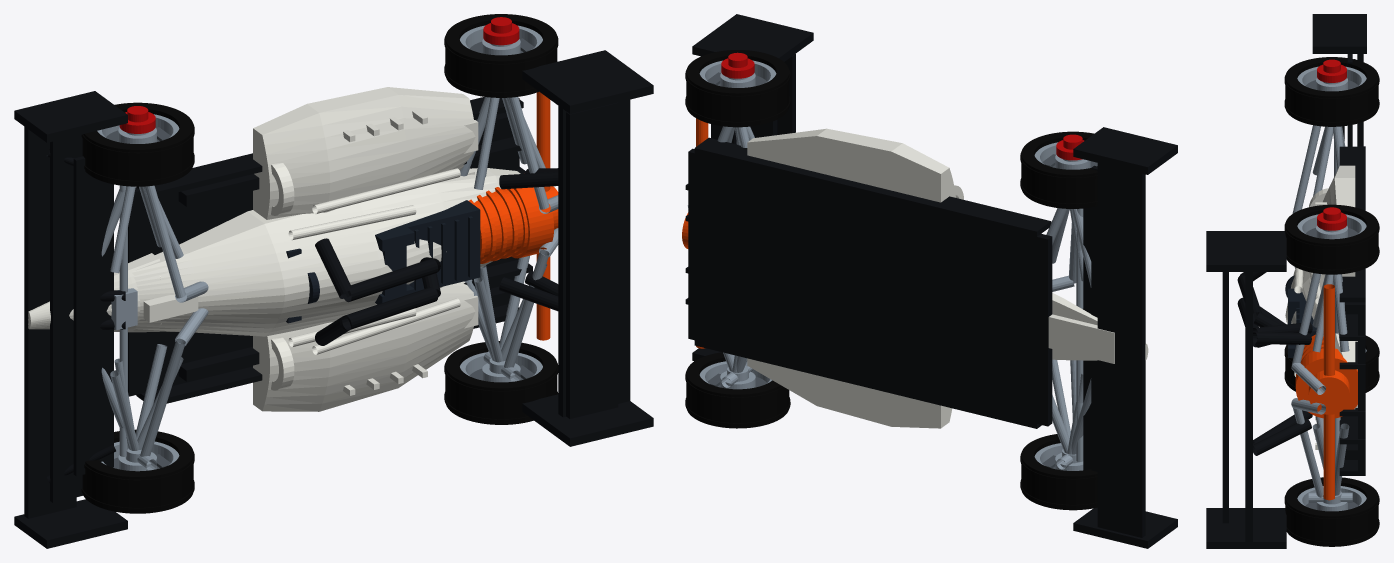
Rendered from FORMULA_EV_DETAILED_VIEWER.obj.
3 renders of one model, left to right at view 1: azimuth 30°, elevation 25°; view 2: azimuth 150°, elevation 25°; view 3: azimuth 270°, elevation 25°, orthographic. The views are drawn at different scales.
Parts seen in each view (by area): view 1: Sidepods, Front_wing, Rear_wing, Carbon_monocoque, Ground_effect_floor, Front_suspension, Rear_suspension, Rear_motor, Front_right_slick_tire, Rear_right_slick_tire, Rear_left_slick_tire, Front_left_slick_tire (+10 smaller); view 2: Ground_effect_floor, Front_wing, Sidepods, Rear_right_slick_tire, Front_suspension, Rear_wing, Rear_left_slick_tire, Front_right_slick_tire, Front_left_slick_tire, Carbon_monocoque, Rear_suspension, Nose_cone (+4 smaller); view 3: Rear_wing, Rear_suspension, Ground_effect_floor, Rear_motor, Front_right_slick_tire, Rear_right_slick_tire, Rear_left_slick_tire, Front_wing, Front_suspension, Sidepods, Front_left_slick_tire, Carbon_monocoque (+8 smaller).
Part boxes in pixels (x1=…): Sidepods: x1=253, y1=87, x2=478, y2=411; Front_wing: x1=14, y1=91, x2=127, y2=548; Rear_wing: x1=499, y1=50, x2=653, y2=446; Carbon_monocoque: x1=131, y1=168, x2=520, y2=347; Ground_effect_floor: x1=128, y1=97, x2=532, y2=403; Front_suspension: x1=101, y1=132, x2=208, y2=470; Rear_suspension: x1=460, y1=43, x2=558, y2=381; Rear_motor: x1=469, y1=91, x2=558, y2=340; Front_right_slick_tire: x1=81, y1=102, x2=194, y2=186; Rear_right_slick_tire: x1=444, y1=14, x2=558, y2=97; Rear_left_slick_tire: x1=444, y1=341, x2=558, y2=424; Front_left_slick_tire: x1=81, y1=429, x2=194, y2=513; Ground_effect_floor: x1=685, y1=137, x2=1052, y2=428; Front_wing: x1=1073, y1=127, x2=1177, y2=548; Sidepods: x1=747, y1=128, x2=963, y2=428; Rear_right_slick_tire: x1=685, y1=50, x2=790, y2=127; Front_suspension: x1=1046, y1=159, x2=1091, y2=469; Rear_wing: x1=692, y1=14, x2=813, y2=361; Rear_left_slick_tire: x1=685, y1=352, x2=790, y2=428; Front_right_slick_tire: x1=1020, y1=131, x2=1097, y2=208; Front_left_slick_tire: x1=1020, y1=434, x2=1097, y2=510; Carbon_monocoque: x1=1048, y1=314, x2=1114, y2=363; Rear_suspension: x1=687, y1=77, x2=754, y2=387; Nose_cone: x1=1052, y1=293, x2=1148, y2=360; Rear_wing: x1=1206, y1=231, x2=1312, y2=548; Rear_suspension: x1=1291, y1=229, x2=1352, y2=504; Ground_effect_floor: x1=1339, y1=146, x2=1365, y2=475; Rear_motor: x1=1295, y1=284, x2=1357, y2=500; Front_right_slick_tire: x1=1284, y1=57, x2=1379, y2=126; Rear_right_slick_tire: x1=1284, y1=204, x2=1379, y2=274; Rear_left_slick_tire: x1=1284, y1=477, x2=1379, y2=546; Front_wing: x1=1312, y1=14, x2=1366, y2=146; Front_suspension: x1=1292, y1=82, x2=1345, y2=268; Sidepods: x1=1309, y1=165, x2=1355, y2=449; Front_left_slick_tire: x1=1284, y1=335, x2=1379, y2=392; Carbon_monocoque: x1=1285, y1=267, x2=1357, y2=409.
Bounding box in the file's own units: 202 × 147 × 66.85.
